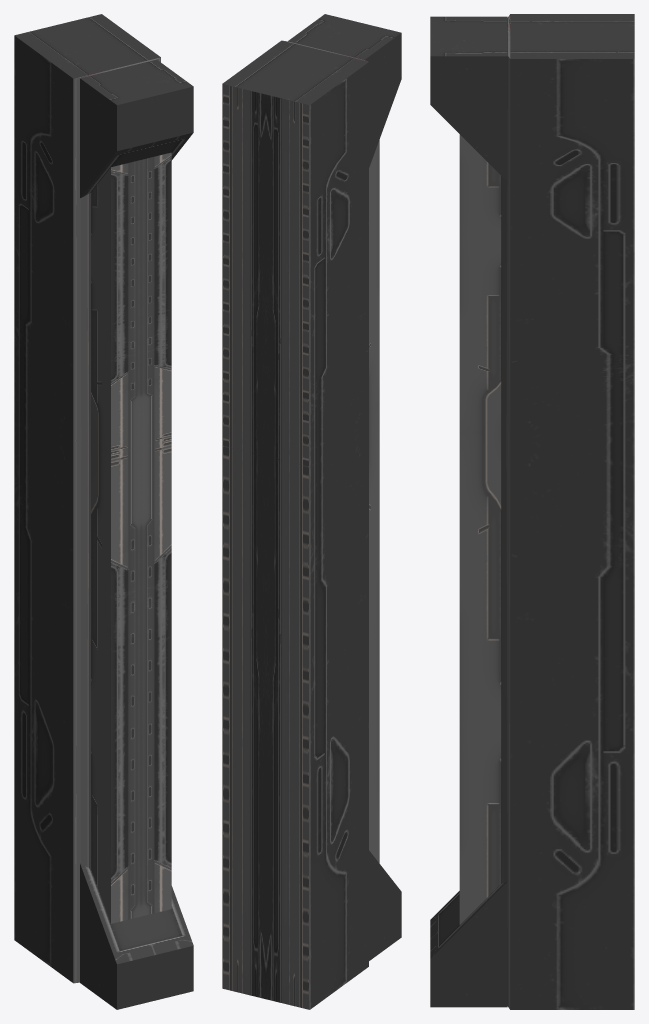
File: column_simple.glb
3 views of the same model, side by side, from view 1: azimuth 30°, elevation 25°; view 2: azimuth 150°, elevation 25°; view 3: azimuth 270°, elevation 25° (orthographic). The views are drawn at different scales.
Parts seen in each view (by area): view 1: Column_Simple; view 2: Column_Simple; view 3: Column_Simple.
Boxes of the visible parts, box(x1,y1,x2,y2) form: Column_Simple: box(14, 14, 193, 1009); Column_Simple: box(222, 14, 401, 1009); Column_Simple: box(430, 14, 634, 1009).
Bounding box in the file's own units: 0.5068 × 5 × 0.9749.
2 materials, 2 textured.
